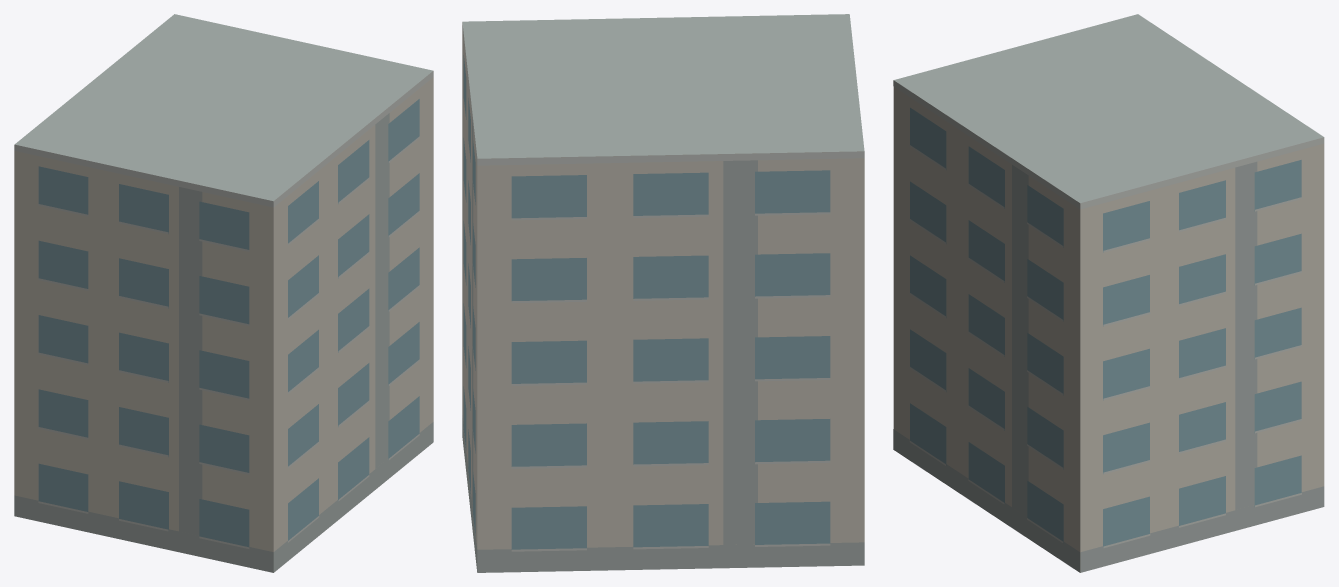
The model's file is residential-aeb00d87-8540-4aae-abd7-6c1a273a2405.glb.
The picture shows the model from 3 angles, left to right: view 1: azimuth 30°, elevation 25°; view 2: azimuth 150°, elevation 25°; view 3: azimuth 270°, elevation 25°; orthographic projection. The views are drawn at different scales.
Parts seen in each view (by area): view 1: residential-aeb00d87-8540-4aae-abd7-6c1a273a2405.tmp; view 2: residential-aeb00d87-8540-4aae-abd7-6c1a273a2405.tmp; view 3: residential-aeb00d87-8540-4aae-abd7-6c1a273a2405.tmp.
Part boxes in pixels (<box>): residential-aeb00d87-8540-4aae-abd7-6c1a273a2405.tmp: <box>14,14,433,572</box>; residential-aeb00d87-8540-4aae-abd7-6c1a273a2405.tmp: <box>462,14,864,572</box>; residential-aeb00d87-8540-4aae-abd7-6c1a273a2405.tmp: <box>893,14,1324,572</box>.
Bounding box in the file's own units: 15.88 × 14.45 × 15.27.
